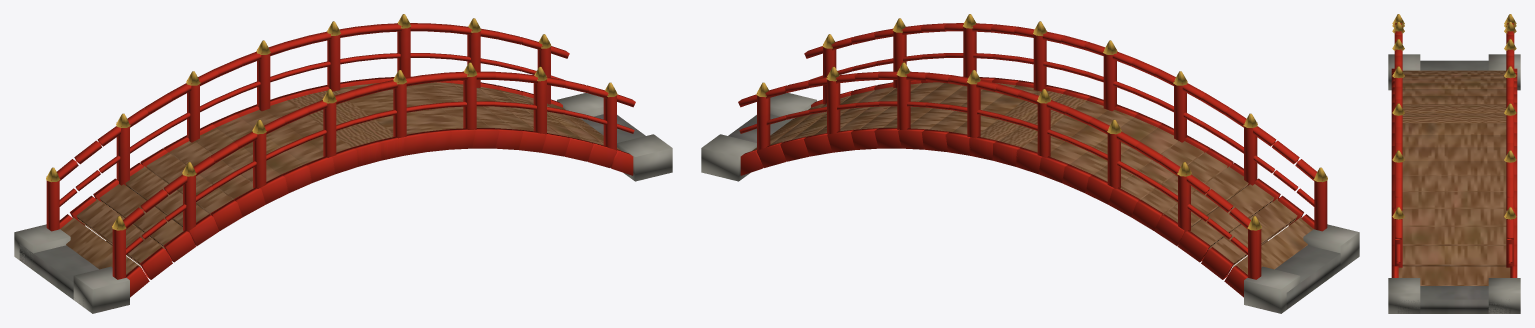
The model's file is koibridge.glb.
The picture shows the model from 3 angles, left to right: view 1: azimuth 30°, elevation 25°; view 2: azimuth 150°, elevation 25°; view 3: azimuth 270°, elevation 25°; orthographic projection. The views are drawn at different scales.
Parts seen in each view (by area): view 1: KoiBridge_Body; view 2: KoiBridge_Body; view 3: KoiBridge_Body.
Boxes of the visible parts, x1,y1,x2,y2 form: KoiBridge_Body: (14, 14, 672, 313); KoiBridge_Body: (701, 14, 1359, 313); KoiBridge_Body: (1388, 14, 1520, 313).
Size of the model in its own units: 24.8 by 6.65 by 5.8.
1 material, 1 textured.
